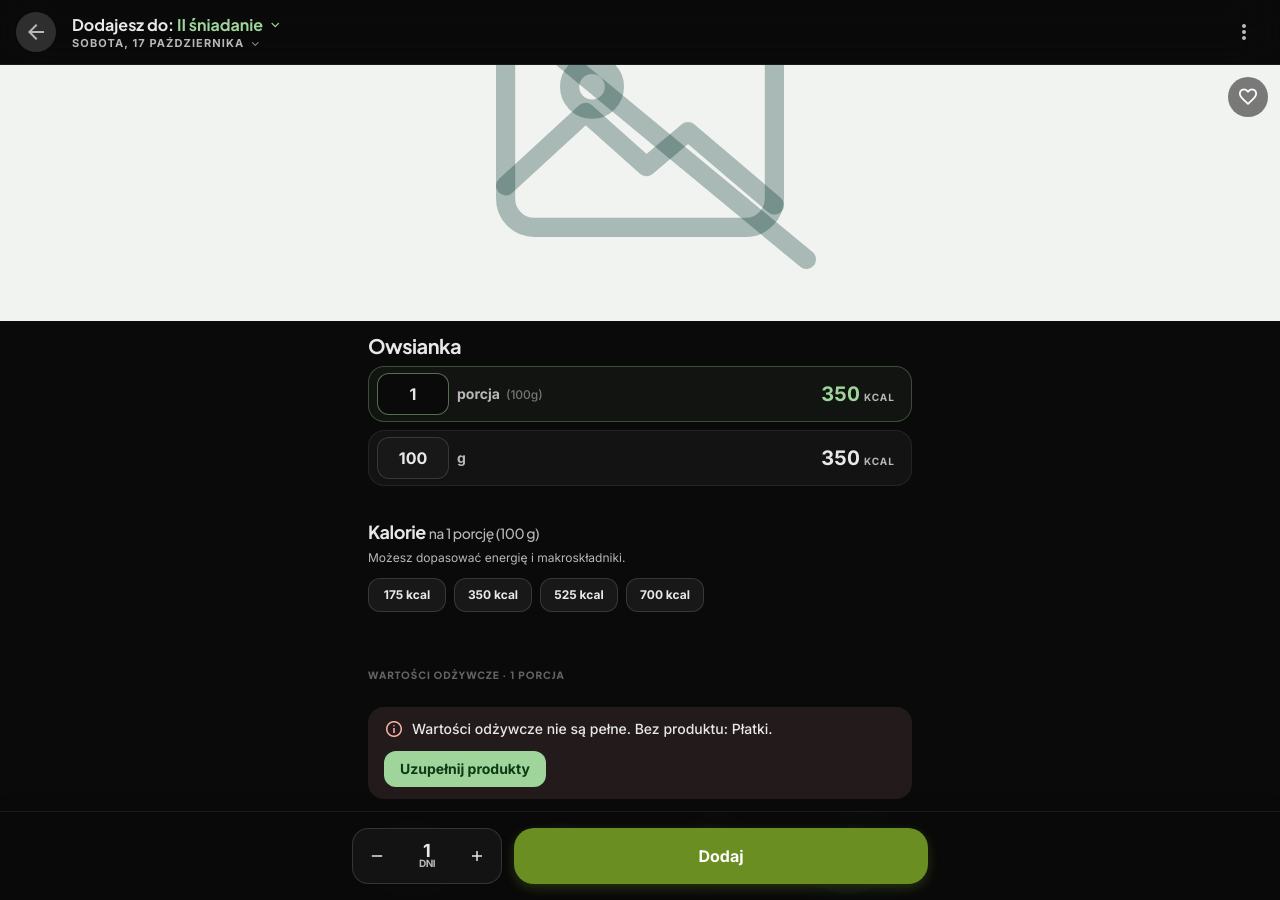
Test: meal and day in item details › lets the user pick them when adding from /recipe/r1
Click the button "Dodajesz do: II śniadanie" at (178, 25), box [72,15,283,35]
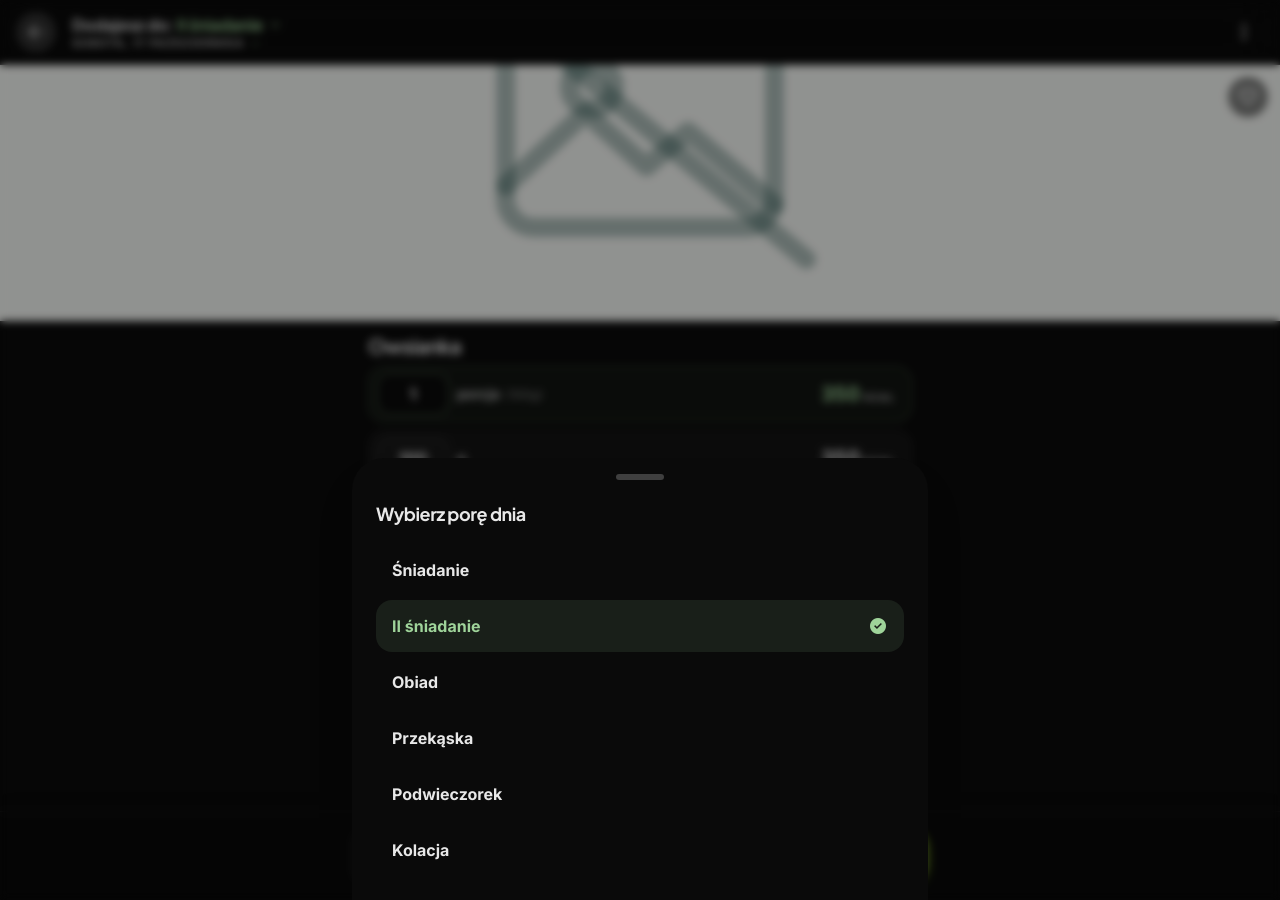
Expected: the button "Śniadanie" is shown, [376,544,904,596]
